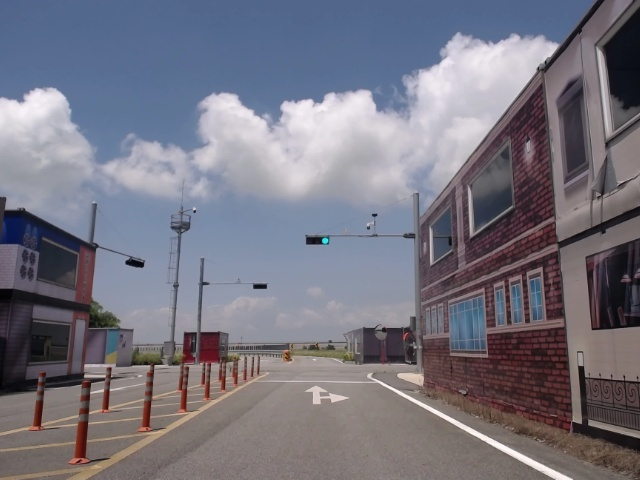green_3: (308, 237, 329, 245)
